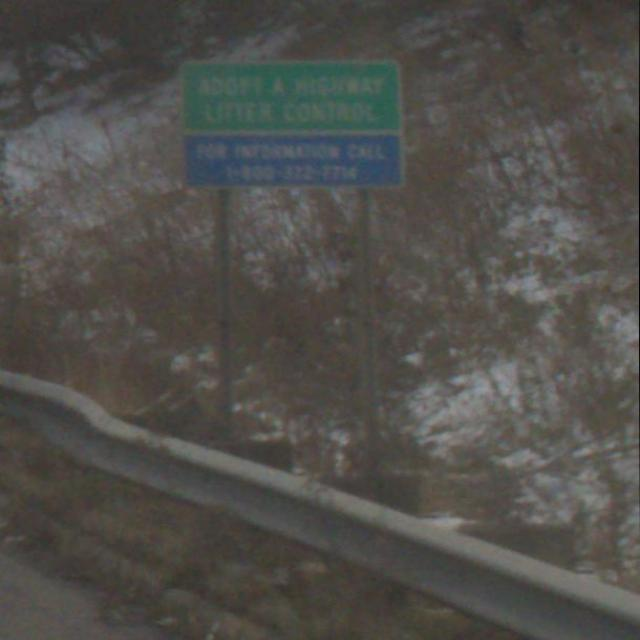Guard rail: (0, 359, 640, 640)
